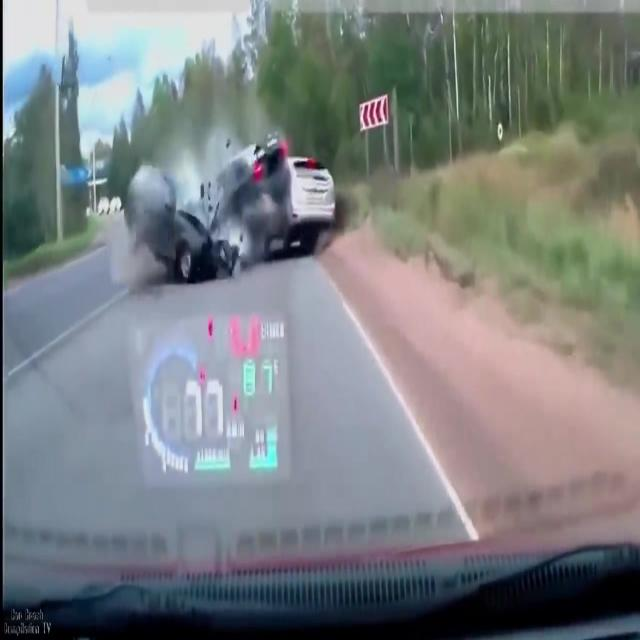accident: (111, 115, 354, 296)
